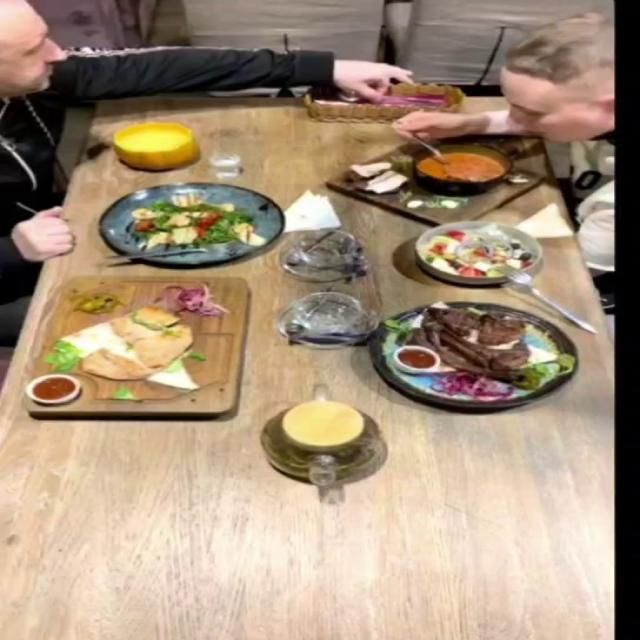alcohol: (200, 139, 257, 178)
meat: (367, 301, 579, 408)
salat: (95, 182, 281, 265), (413, 220, 545, 285)
soup: (324, 134, 552, 227), (112, 122, 199, 170)
tea: (280, 399, 365, 447)
